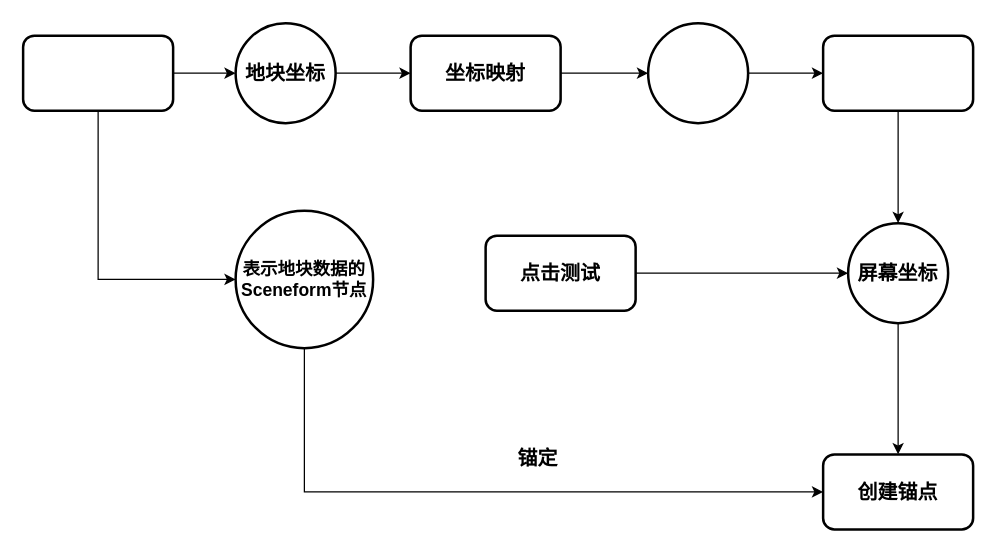
The diagram is 995 pixels wide and 551 high, and some of its shapes have lost their labels. Here are the shapes that lost their labels. From the top down, the centre of each, then its label:
At [97,72]: "地块实体对象".
At [697,72]: "虚拟场景下坐标".
At [897,72]: "坐标转换".
